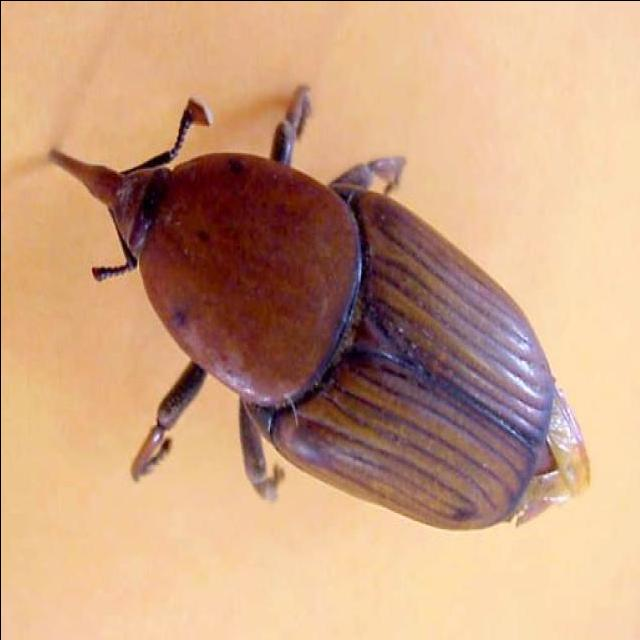Red-palm-weevil: (46, 71, 568, 553)
